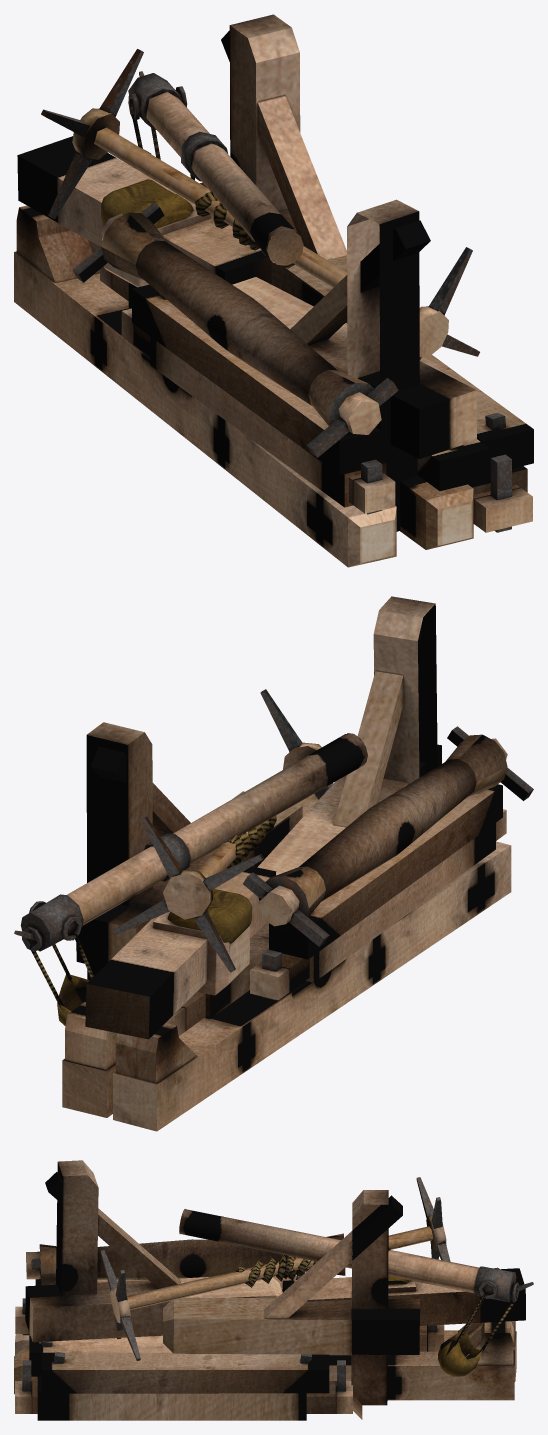
File: rome_rock_onager_packed.dae
3 renders of one model, top to bottom at view 1: azimuth 30°, elevation 25°; view 2: azimuth 150°, elevation 25°; view 3: azimuth 270°, elevation 25°, orthographic. The views are drawn at different scales.
Visible parts, largest first — view 1: onagermesh.024; view 2: onagermesh.024; view 3: onagermesh.024.
Part boxes in pixels (<box>): onagermesh.024: <box>14,14,533,567</box>; onagermesh.024: <box>14,596,533,1131</box>; onagermesh.024: <box>14,1160,533,1420</box>.
Size of the model in its own units: 4.04 by 10.4 by 4.82.
